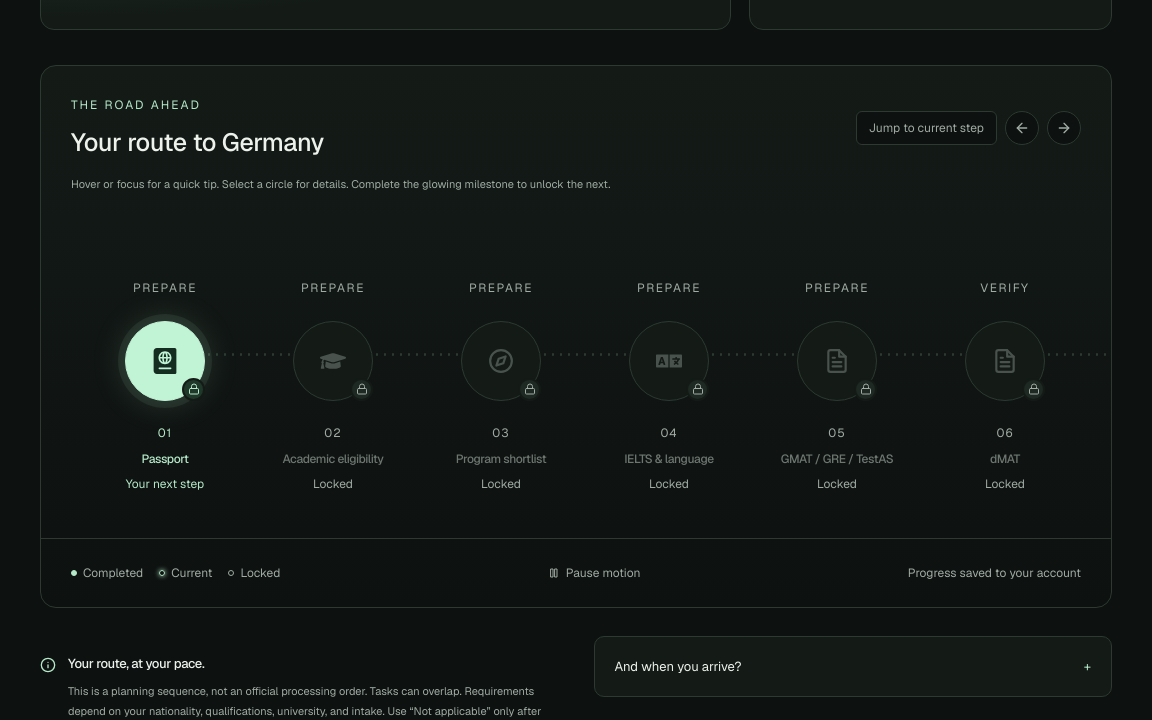
account change cannot copy progress into another account or overwrite profile and expenses
The image size is (1152, 720).
(page scrolled)
Click the button named "Passport — current milestone" at (165, 361), box left=125, top=321, right=205, bottom=401
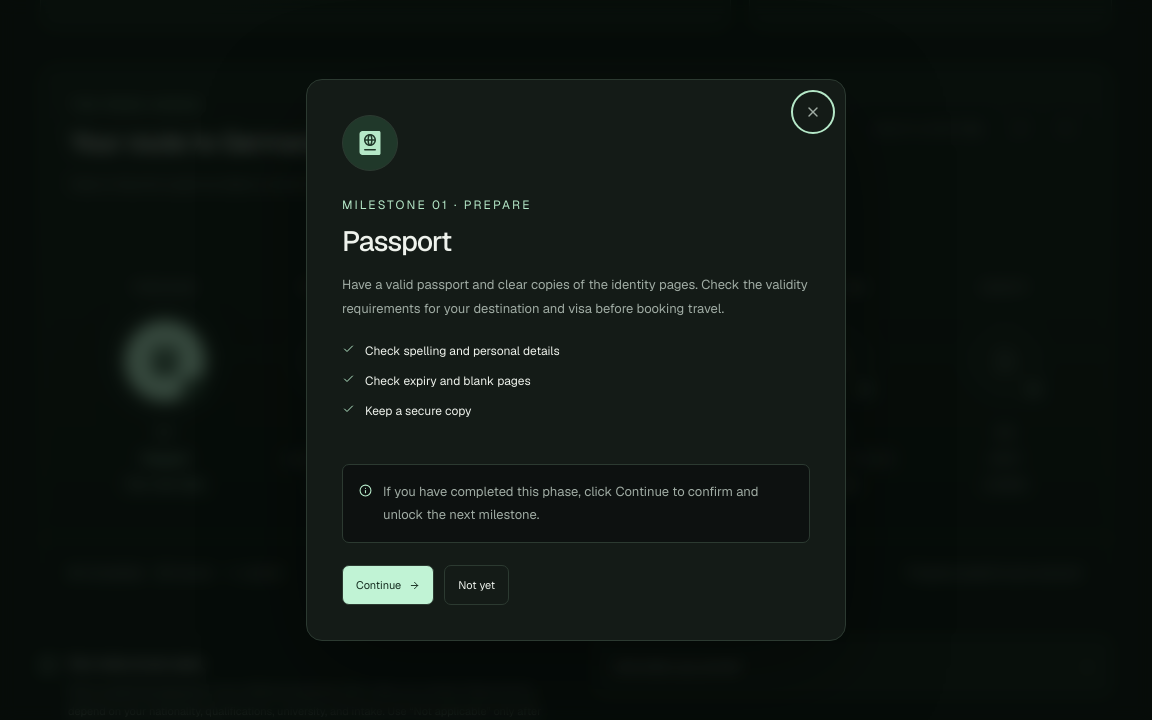
Click the button "Continue" at (388, 585), box left=342, top=565, right=434, bottom=605
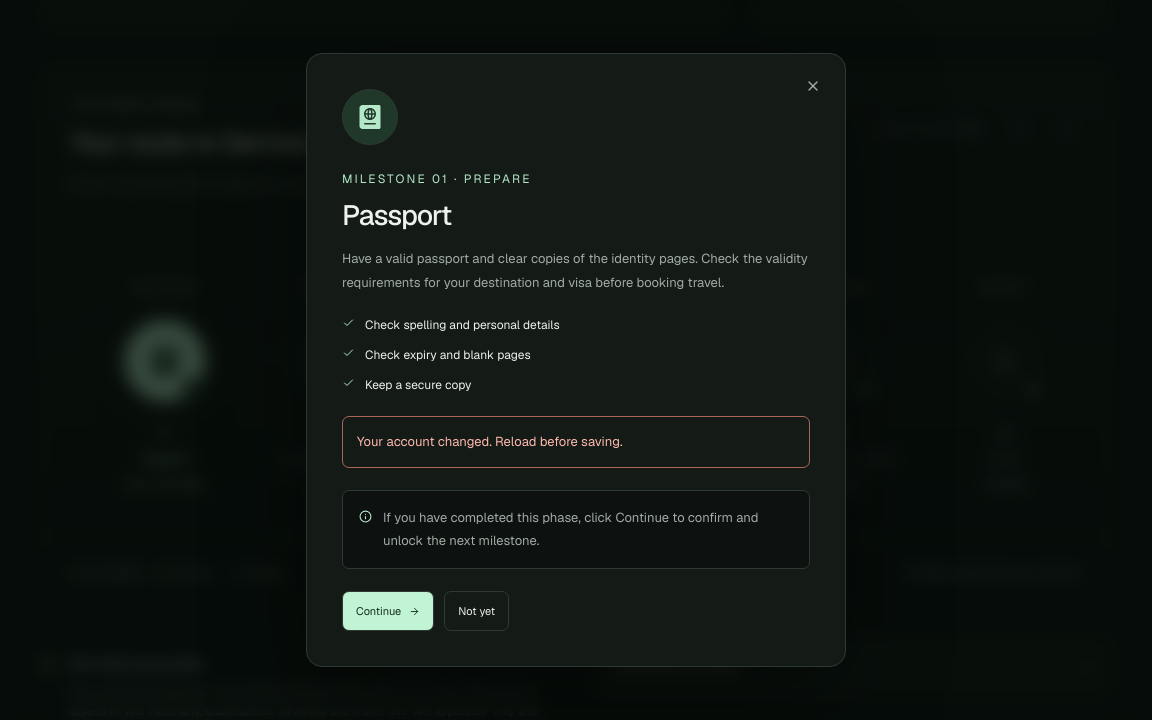
expect the message "Your account changed. Reload before saving." is shown: met, box left=342, top=416, right=810, bottom=468
